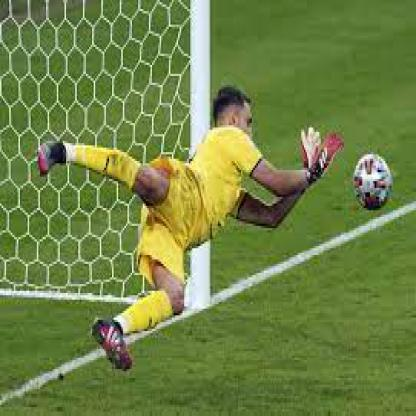goal: (87, 52, 399, 254)
